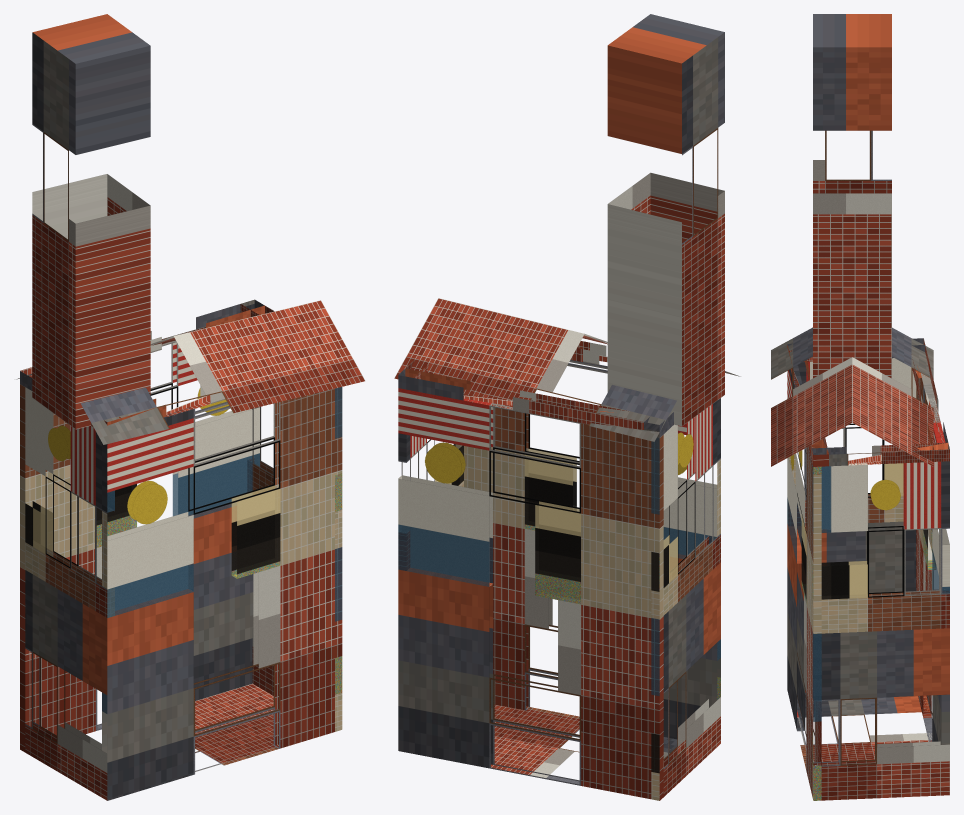
The picture shows the model from 3 angles, left to right: view 1: azimuth 30°, elevation 25°; view 2: azimuth 150°, elevation 25°; view 3: azimuth 270°, elevation 25°; orthographic projection. The views are drawn at different scales.
Visible parts, largest first — view 1: 534916385__wall_0_xb, 534916385__chimney_0_xb, 534916385__wall_2_xb, 534916385__wall_3_xb, 534916385_roof_-1_xb, 534916385__wall_0_xf, 534916385__base, 534916385__wall_2_xf, 534916385__wall_1_xb, 534916385__wall_1_xf, 534916385__cornice_2, 534916385__wall_3_xf (+1 smaller); view 2: 534916385__wall_2_xb, 534916385__chimney_0_xb, 534916385__wall_0_xb, 534916385__wall_3_xb, 534916385_roof_1_xb, 534916385__wall_2_xf, 534916385__base, 534916385__cornice_2, 534916385__wall_0_xf, 534916385__wall_3_xf, 534916385__wall_1_xb, 534916385__cornice_0; view 3: 534916385__wall_1_xb, 534916385__chimney_0_xb, 534916385__wall_0_xb, 534916385__wall_3_xb, 534916385_roof_-1_xb, 534916385_roof_1_xb, 534916385__wall_2_xb, 534916385__base, 534916385__wall_1_xf, 534916385__cornice_1, 534916385__wall_0_xf, 534916385__cornice_2 (+3 smaller).
Boxes of the visible parts, bbox=[...] form: 534916385__wall_0_xb: bbox=[102, 387, 342, 800]; 534916385__chimney_0_xb: bbox=[32, 14, 150, 429]; 534916385__wall_2_xb: bbox=[20, 340, 259, 752]; 534916385__wall_3_xb: bbox=[25, 387, 114, 800]; 534916385_roof_-1_xb: bbox=[80, 300, 365, 444]; 534916385__wall_0_xf: bbox=[102, 486, 279, 713]; 534916385__base: bbox=[195, 683, 278, 771]; 534916385__wall_2_xf: bbox=[97, 453, 259, 547]; 534916385__wall_1_xb: bbox=[247, 387, 342, 731]; 534916385__wall_1_xf: bbox=[335, 387, 341, 694]; 534916385__cornice_2: bbox=[20, 300, 264, 389]; 534916385__wall_3_xf: bbox=[26, 491, 114, 553]; 534916385__wall_2_xb: bbox=[398, 388, 663, 800]; 534916385__chimney_0_xb: bbox=[607, 14, 724, 426]; 534916385__wall_0_xb: bbox=[455, 360, 720, 739]; 534916385__wall_3_xb: bbox=[651, 398, 720, 800]; 534916385_roof_1_xb: bbox=[394, 298, 676, 441]; 534916385__wall_2_xf: bbox=[398, 502, 580, 603]; 534916385__base: bbox=[491, 704, 677, 777]; 534916385__cornice_2: bbox=[398, 368, 666, 437]; 534916385__wall_0_xf: bbox=[525, 449, 720, 659]; 534916385__wall_3_xf: bbox=[651, 438, 720, 772]; 534916385__wall_1_xb: bbox=[398, 433, 463, 570]; 534916385__cornice_0: bbox=[570, 341, 607, 364]; 534916385__wall_1_xb: bbox=[812, 461, 949, 800]; 534916385__chimney_0_xb: bbox=[813, 14, 891, 378]; 534916385__wall_0_xb: bbox=[787, 365, 821, 800]; 534916385__wall_3_xb: bbox=[787, 358, 924, 692]; 534916385_roof_-1_xb: bbox=[771, 327, 852, 466]; 534916385_roof_1_xb: bbox=[852, 327, 933, 466]; 534916385__wall_2_xb: bbox=[916, 373, 949, 744]; 534916385__base: bbox=[797, 692, 932, 769]; 534916385__wall_1_xf: bbox=[822, 466, 867, 598]; 534916385__cornice_1: bbox=[811, 442, 949, 466]; 534916385__wall_0_xf: bbox=[787, 467, 821, 800]; 534916385__cornice_2: bbox=[912, 338, 948, 449].
Bounding box in the file's own units: 0.5349 × 1.4 × 0.3397.
Materials: 1 (1 with a texture image).
